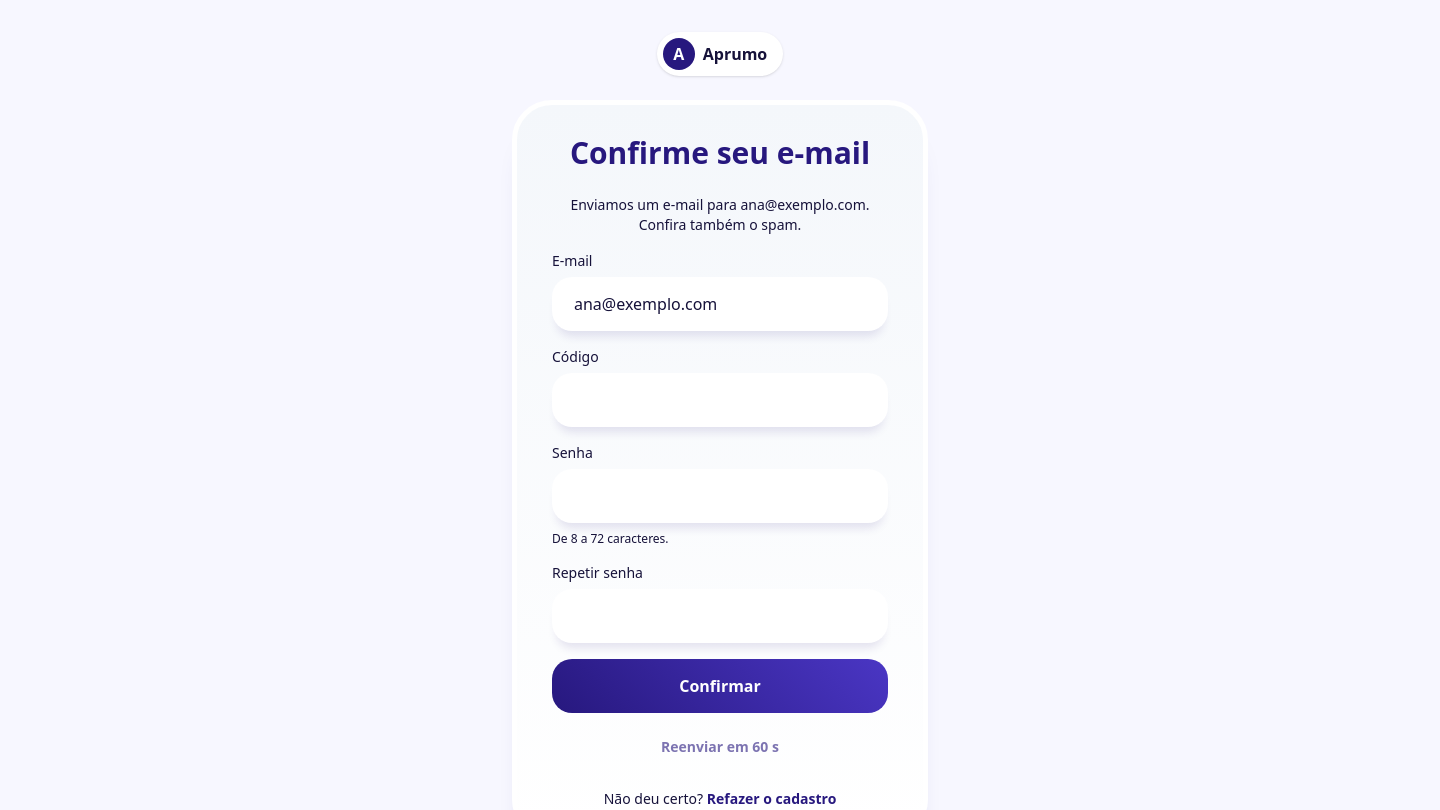
ConfirmarPage com código › codigo_certo_entra_no_app
Type "123456" into the field labelled "Código" at {"x": 720, "y": 400}, box [552,373,888,427]
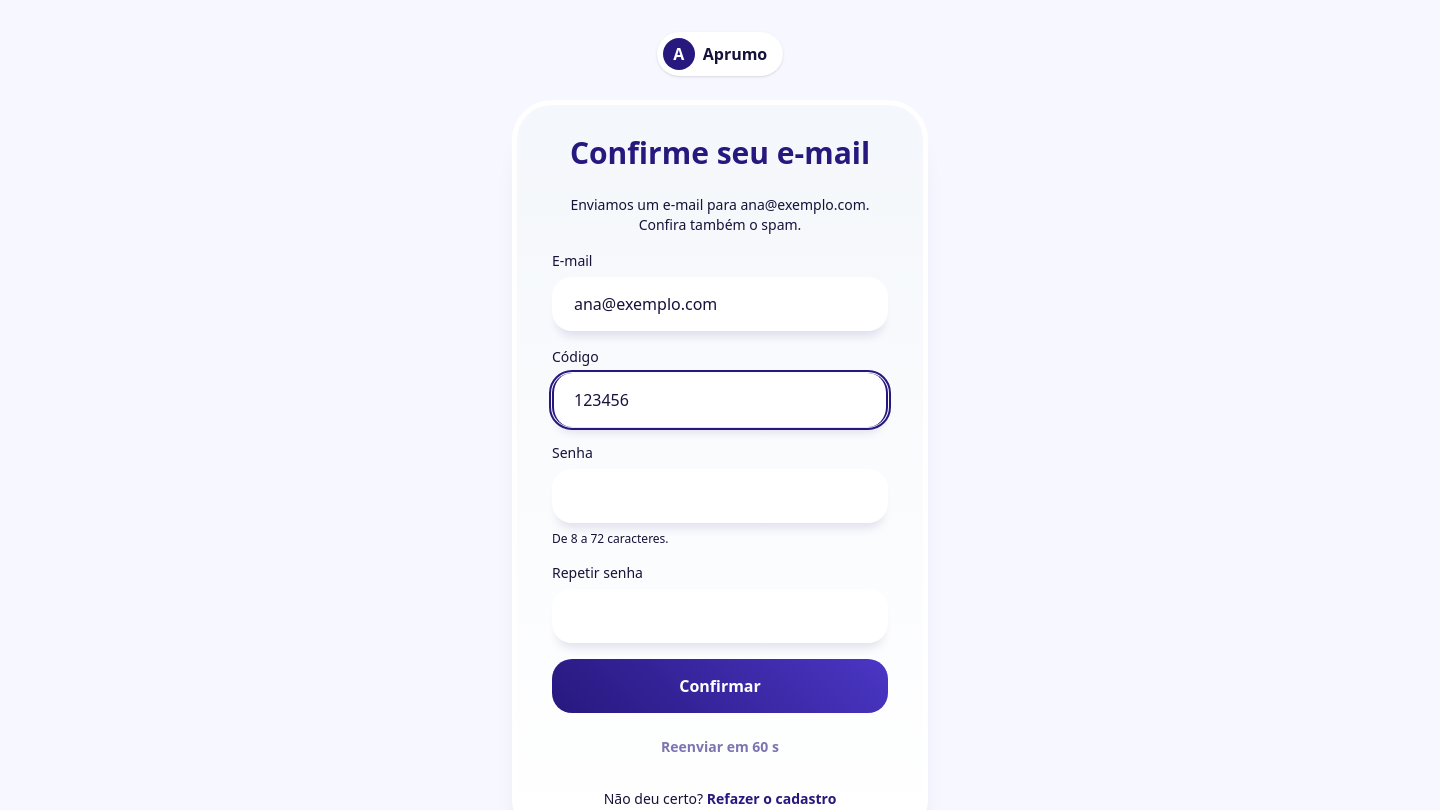
Type "senha-segura" into the password field labelled "Senha" at {"x": 720, "y": 496}, box [552,469,888,523]
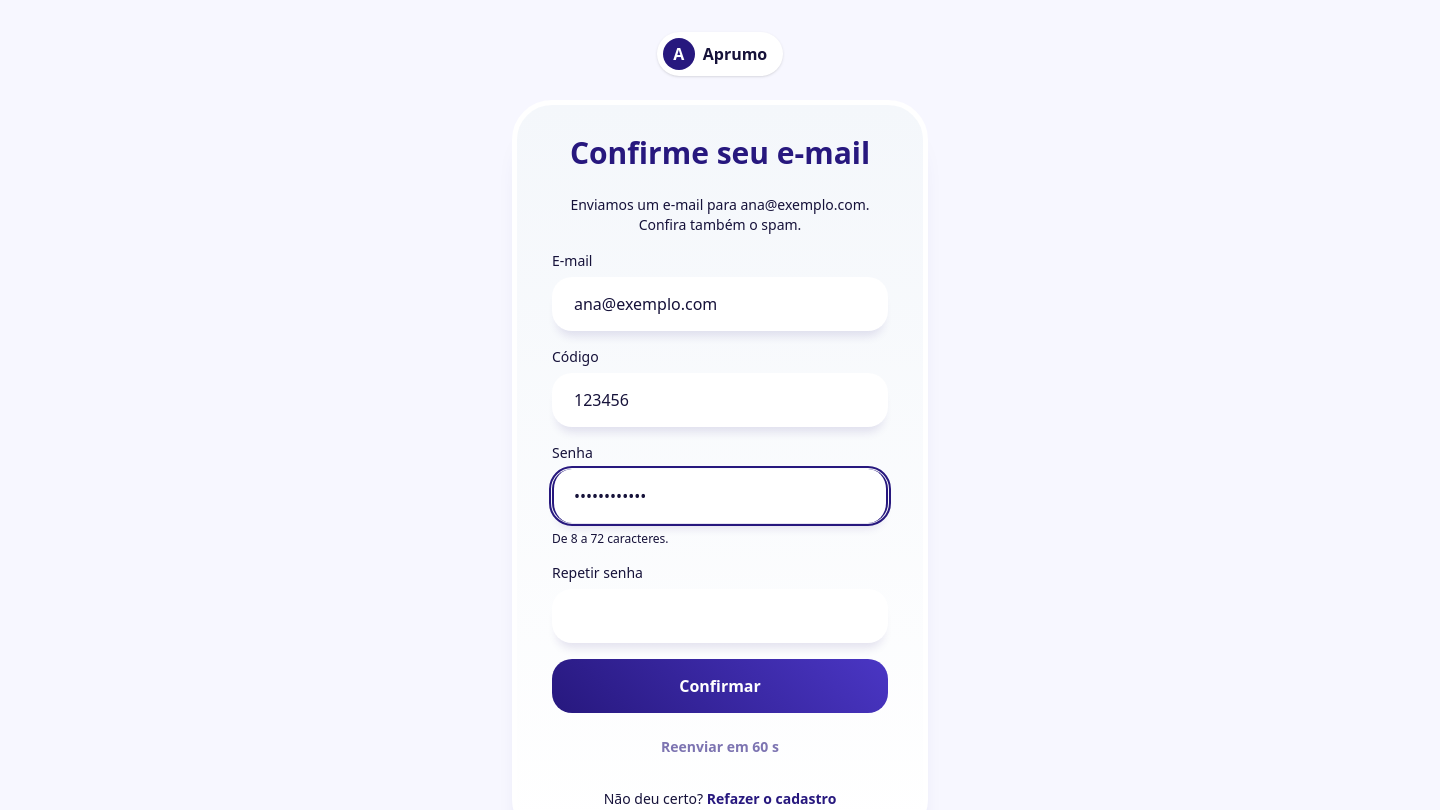
Type "senha-segura" into the password field labelled "Repetir senha" at {"x": 720, "y": 616}, box [552,589,888,643]
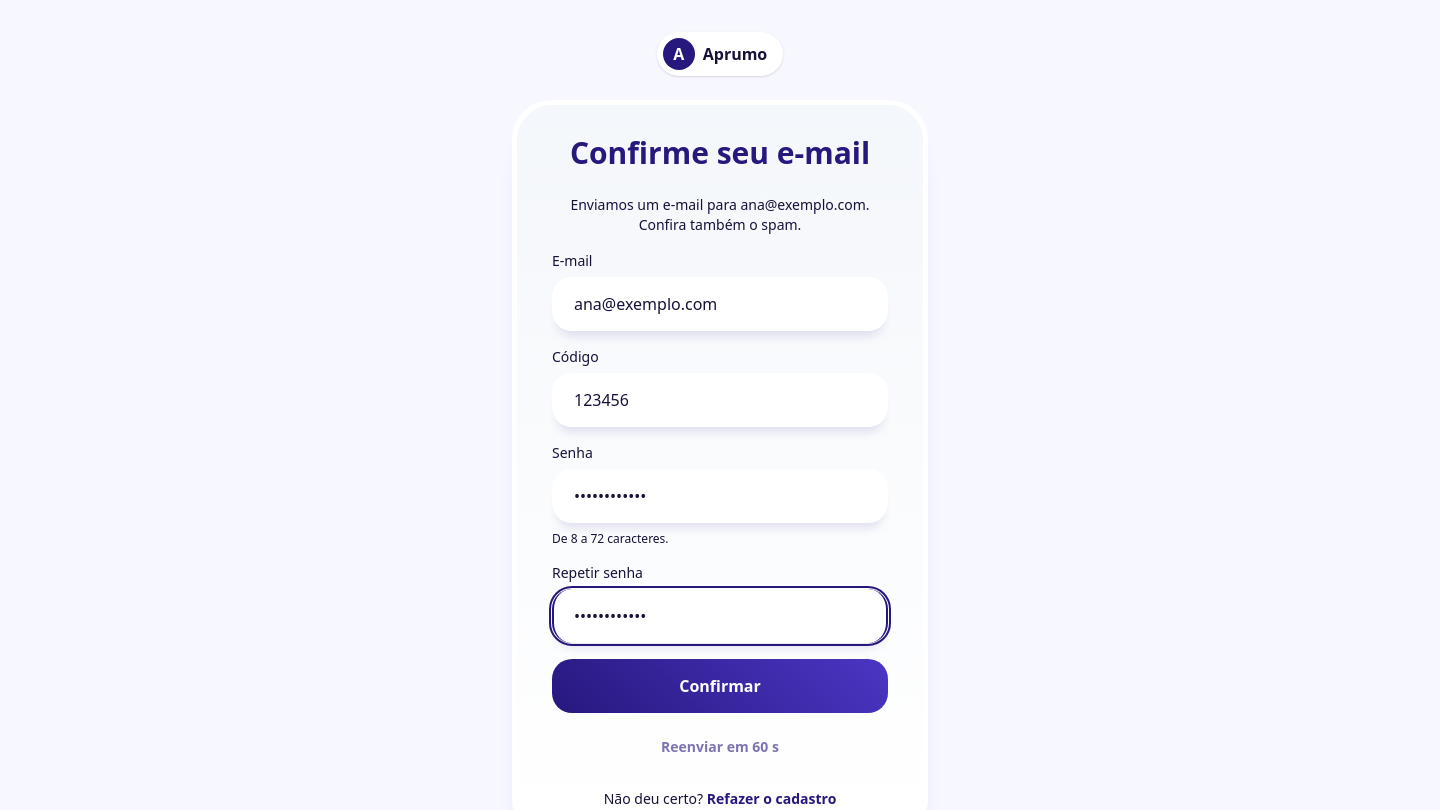
Click the button "Confirmar" at {"x": 720, "y": 686}, box [552,659,888,713]
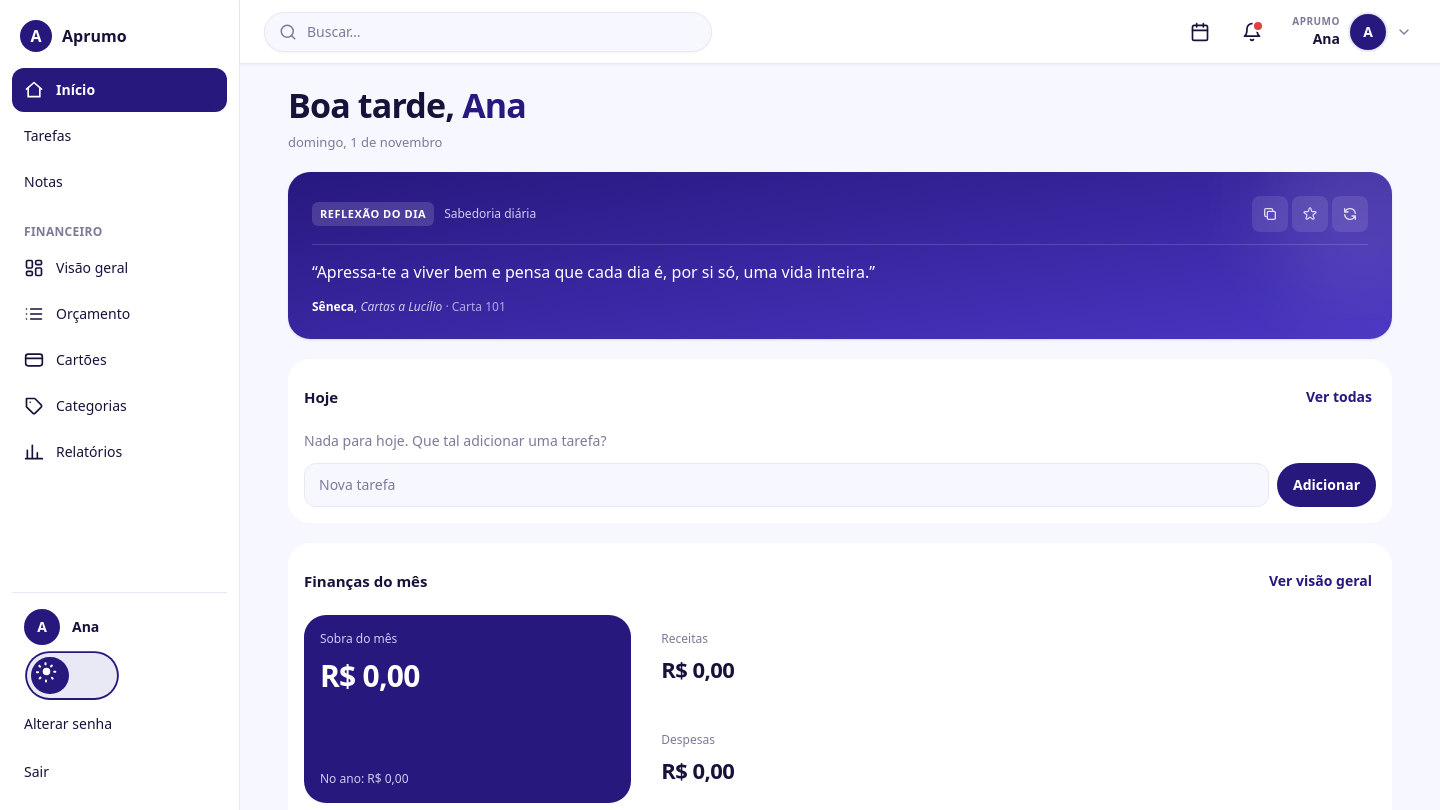
Expected: the heading "Boa tarde, Ana" is shown, [288,82,526,128]
